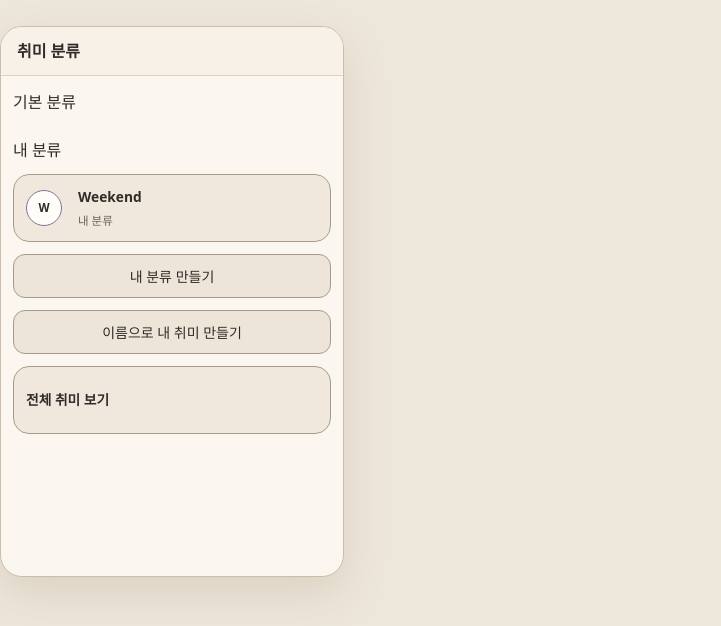
Test: 보유한 기본 분류만 표시하고 빈 개인 분류를 유지한다
The image size is (721, 626).
Expected: the button "전체 취미 보기" is shown, [13, 366, 331, 434]
Click the button "W Weekend 내 분류": (44, 208) [13, 174, 331, 242]
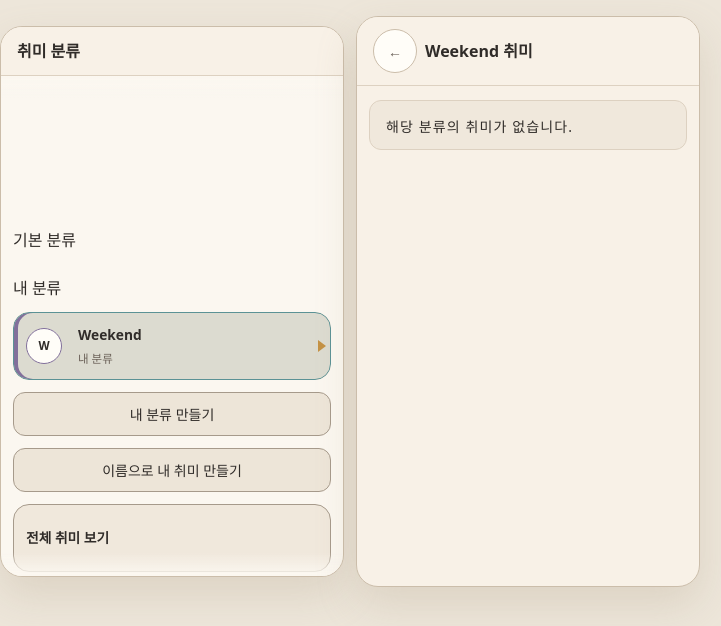
Result: the text "해당 분류의 취미가 없습니다." is shown at [386, 116, 573, 136]
